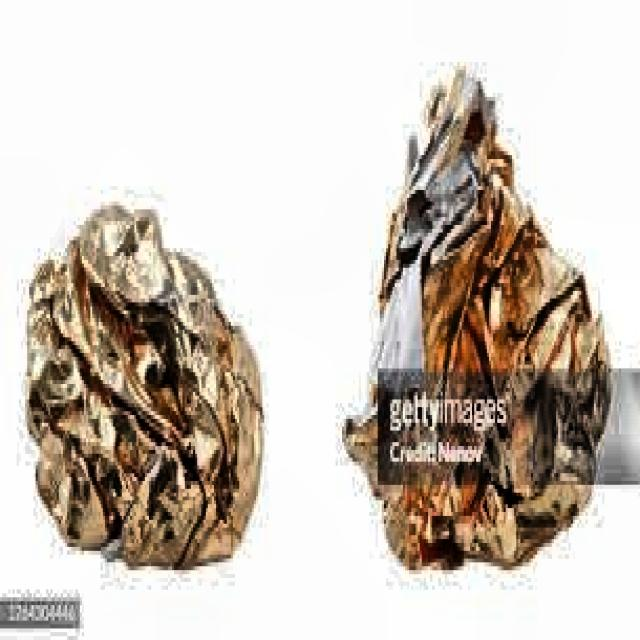Foil: (337, 68, 614, 590), (18, 190, 270, 583)
